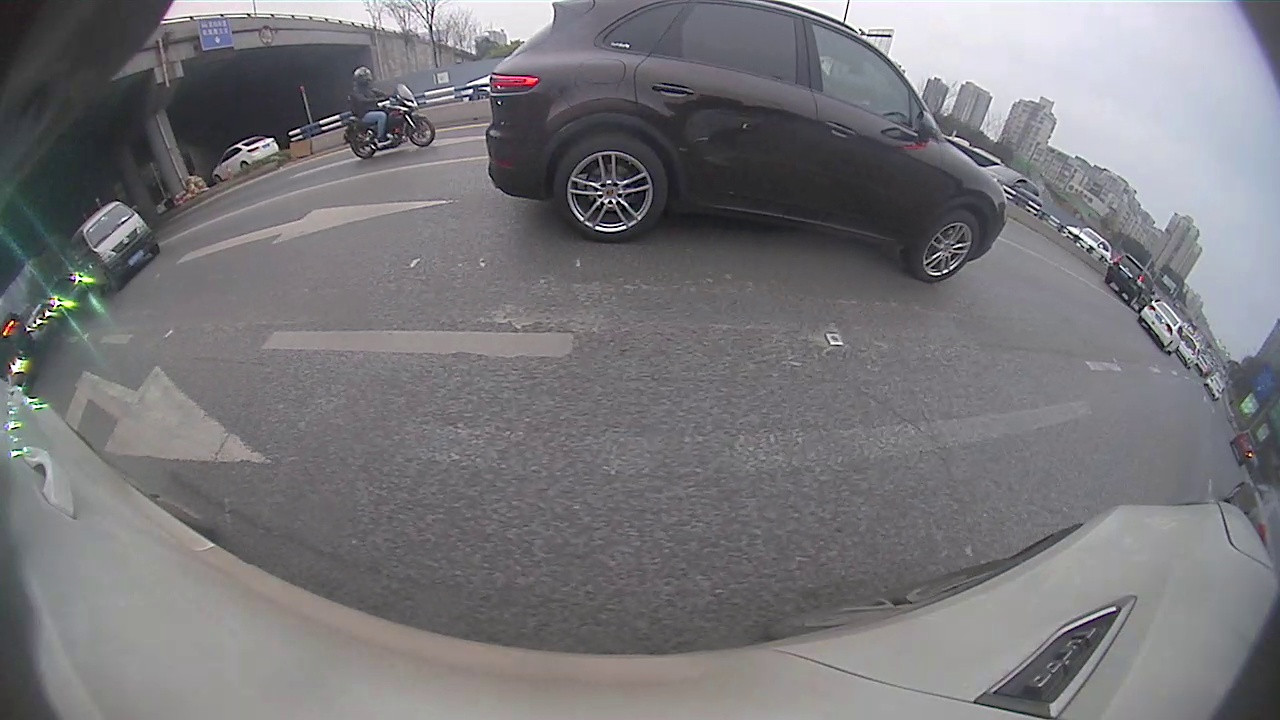car: (484, 0, 1008, 284), (70, 200, 161, 296), (210, 136, 280, 187), (1106, 252, 1156, 314), (1137, 299, 1185, 357)
front: (912, 210, 982, 282)
rear: (554, 130, 668, 245)
rider: (337, 63, 437, 161)
